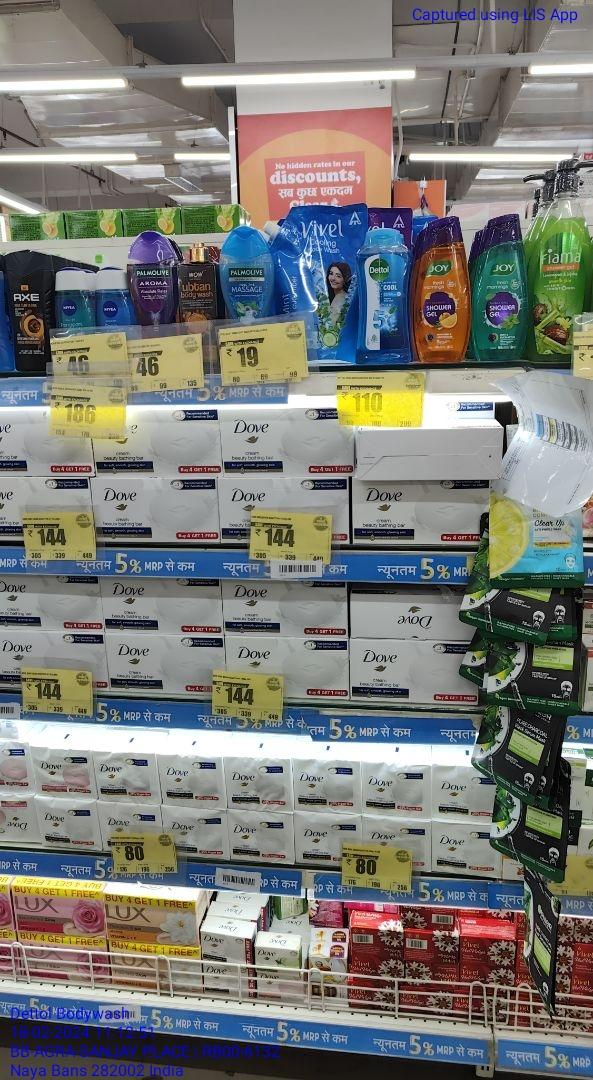Dettol_Bodywash_Cool: (358, 228, 410, 363)
Joy_Shower_Gel_Mandarin_and_Lemongrass_250ML: (415, 215, 469, 362)
Joy_Shower_Gel_Mint_and_Eucalyptus_250ML: (474, 215, 531, 360)
Palmolive_Aroma_Moments_Feel_The_Massage_Shower_Gel_250ML: (220, 226, 274, 323)
Palmolive_Aroma_Relax_250ML: (133, 230, 179, 324)
